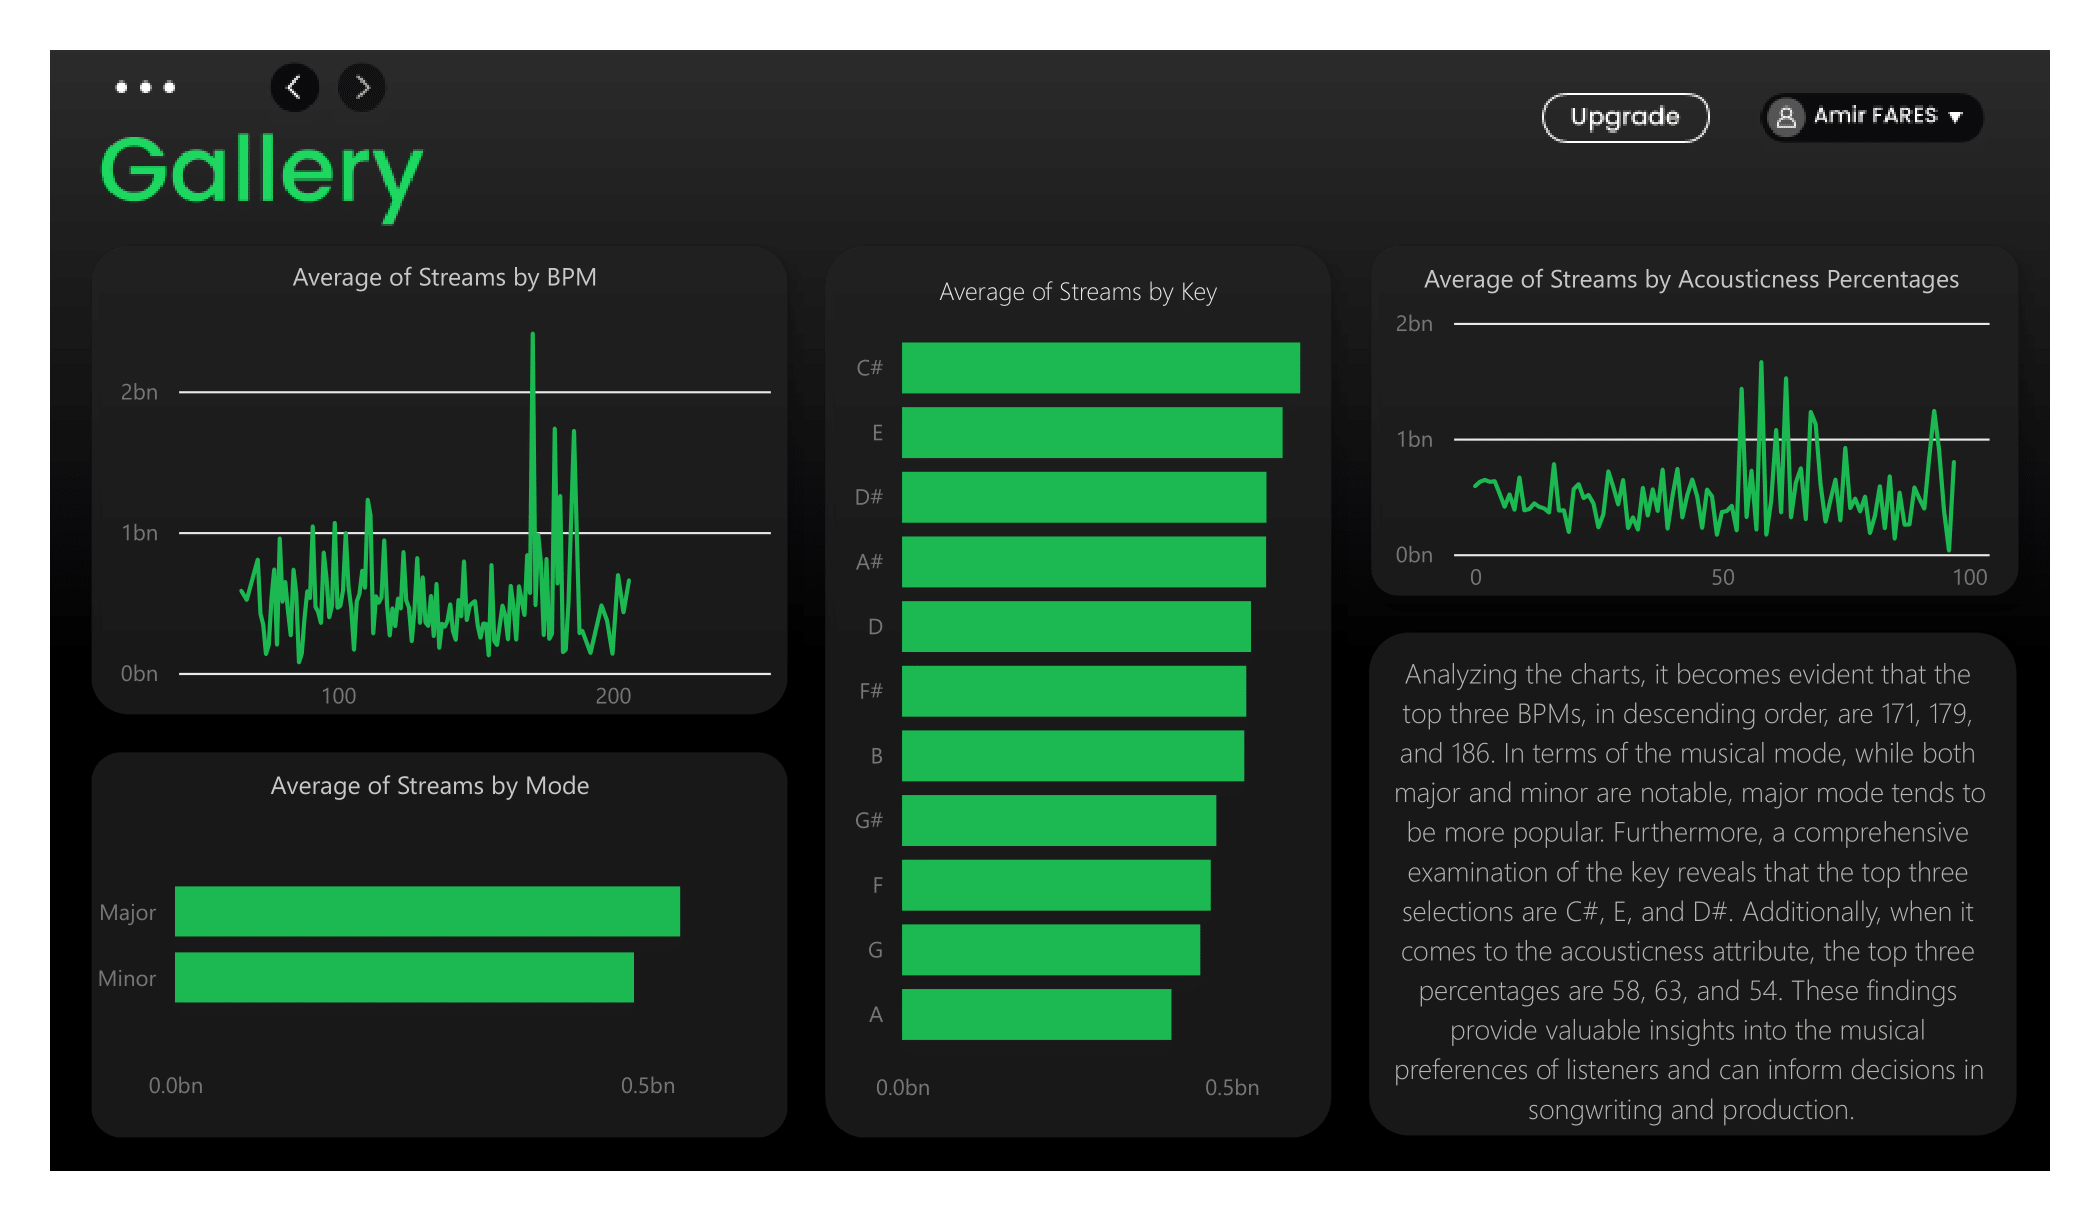

What the dashboard file says about the page in this screenshot:
{"tool":"powerbi","page":{"name":"Page 6","canvas":[960,540],"ordinal":5},"visuals":[{"type":"shape","title":"Short Rectangle","box":[624.3,271.4,328.6,258.6],"z":0},{"type":"textbox","box":[640,284,296,256],"z":1000},{"type":"shape","title":"Rectangle","box":[11.2,327.5,351.2,203.8],"z":2000},{"type":"shape","title":"Rectangle","box":[362.5,85,261.2,446.2],"z":3000},{"type":"shape","title":"Rectangle","box":[11.2,85,351.2,242.5],"z":4000},{"type":"clusteredBarChart","title":" ","fields":{"Category":["Spotify Dataset.key"],"Y":["Avg(Spotify Dataset.streams)"]},"box":[378.8,101.2,302.5,415],"z":5000},{"type":"barChart","title":"Average of Streams by Mode","fields":{"Category":["Spotify Dataset.mode"],"Y":["Avg(Spotify Dataset.streams)"]},"box":[13.8,343.8,337.5,171.2],"z":6000},{"type":"lineChart","title":"Average of Streams by BPM","fields":{"Category":["Spotify Dataset.bpm"],"Y":["Avg(Spotify Dataset.streams)"]},"box":[27.5,100,323.8,227.5],"z":7000},{"type":"textbox","box":[392,100.2,203.1,33.4],"z":8000},{"type":"shape","title":"Rectangle","box":[624.5,85.5,329.1,185.5],"z":9000},{"type":"lineChart","title":"Average of Streams by Acousticness Percentages","fields":{"Y":["Avg(Spotify Dataset.streams)"],"Category":["Spotify Dataset.acousticness_%"]},"box":[640,101.4,295.7,170],"z":10000}]}

Visuals, with their boxes on the page's 960x540 design canvas (x1, y1, x2, y2). These are canvas units, not pixel positions in the 2100x1225 screenshot, which may show the page scaled, cropped or inside an application window:
"Short Rectangle" shape: x1=624, y1=271, x2=953, y2=530
textbox: x1=640, y1=284, x2=936, y2=540
"Rectangle" shape: x1=11, y1=328, x2=362, y2=531
"Rectangle" shape: x1=362, y1=85, x2=624, y2=531
"Rectangle" shape: x1=11, y1=85, x2=362, y2=328
" " clusteredBarChart: x1=379, y1=101, x2=681, y2=516
"Average of Streams by Mode" barChart: x1=14, y1=344, x2=351, y2=515
"Average of Streams by BPM" lineChart: x1=28, y1=100, x2=351, y2=328
textbox: x1=392, y1=100, x2=595, y2=134
"Rectangle" shape: x1=624, y1=86, x2=954, y2=271
"Average of Streams by Acousticness Percentages" lineChart: x1=640, y1=101, x2=936, y2=271
